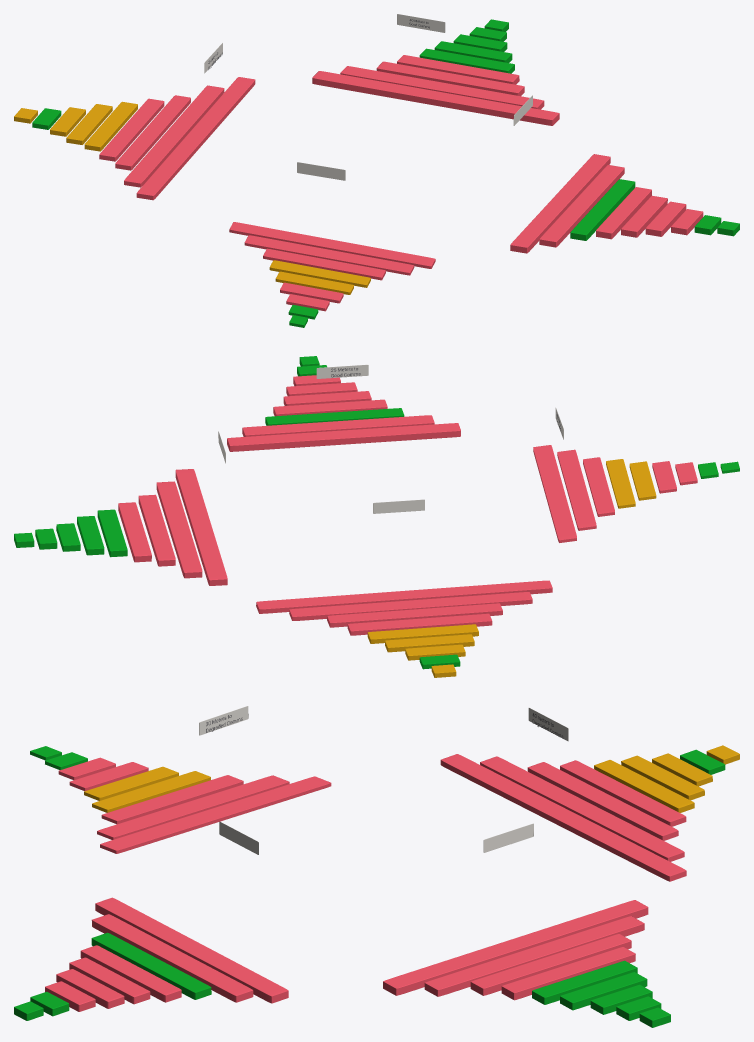
Rendered from jump_domi19.gltf.
The picture shows the model from 3 angles, top to bottom: view 1: azimuth 30°, elevation 25°; view 2: azimuth 150°, elevation 25°; view 3: azimuth 270°, elevation 25°; orthographic projection. The views are drawn at different scales.
Visible parts, largest first — view 1: Cube right (×29); view 2: Cube right (×28); view 3: Cube right (×35).
Boxes of the visible parts, left/top/right/bottom form: Cube right (×29): left=50, top=14, right=703, bottom=303; Cube right (×28): left=56, top=364, right=676, bottom=660; Cube right (×35): left=30, top=706, right=725, bottom=1020.
Size of the model in its own units: 36.5 by 7.19 by 40.17.
